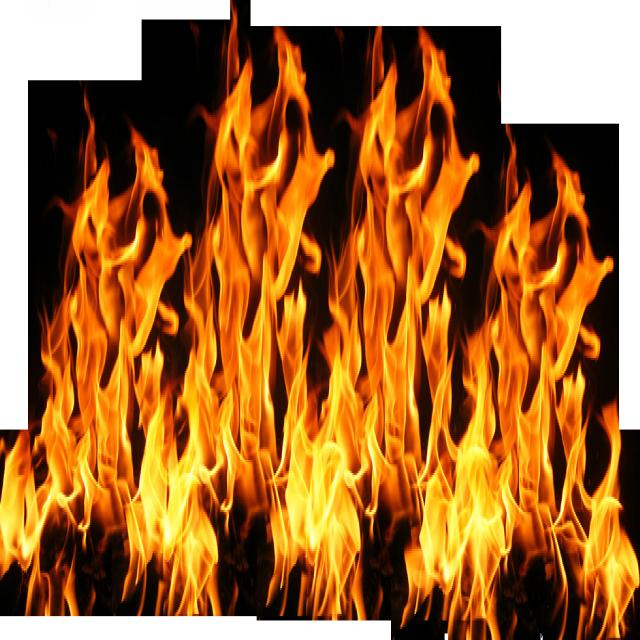fire: (8, 63, 640, 640)
